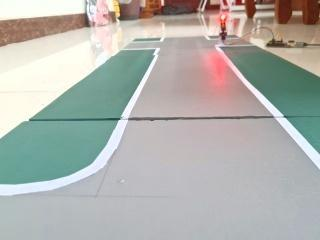red: (214, 6, 233, 32)
